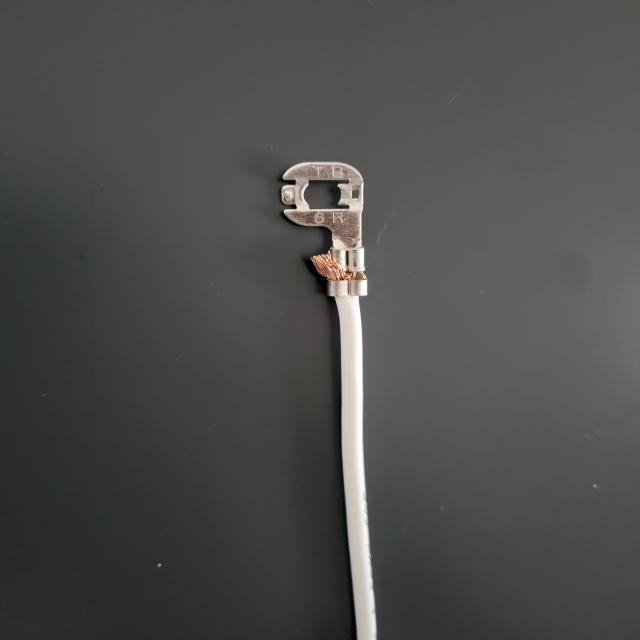defect: (273, 215, 460, 336)
